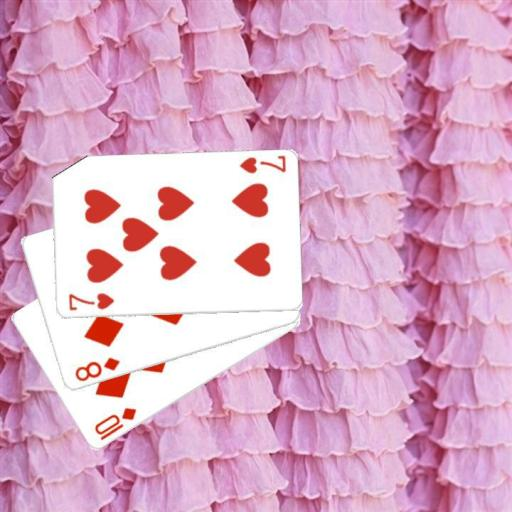10D: (91, 405, 138, 442)
7H: (236, 153, 287, 176), (65, 290, 116, 312)
8D: (71, 354, 122, 383)
